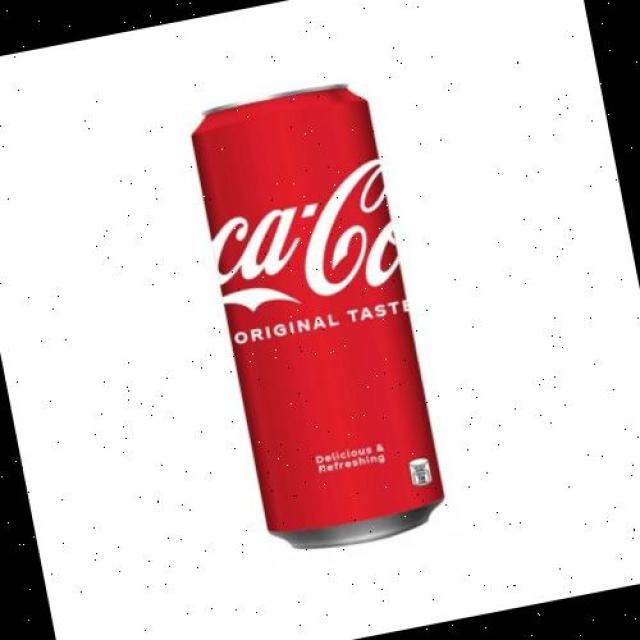coca-cola: (178, 70, 458, 570)
